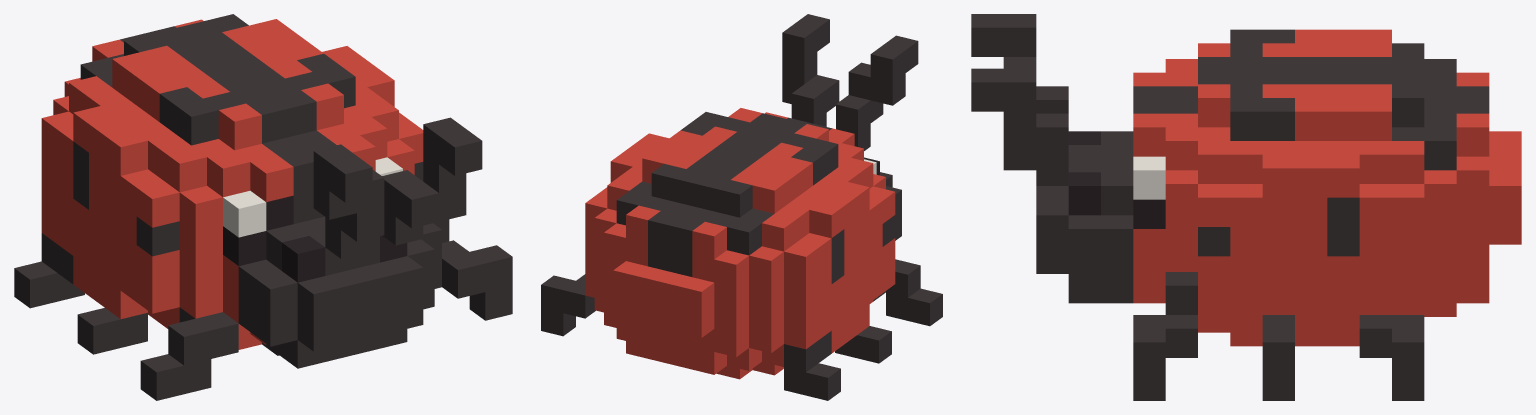
File: ladybug.glb
The picture shows the model from 3 angles, left to right: view 1: azimuth 30°, elevation 25°; view 2: azimuth 150°, elevation 25°; view 3: azimuth 270°, elevation 25°; orthographic projection. The views are drawn at different scales.
Visible parts, largest first — view 1: ladybug__wing_r, ladybug__head, ladybug__wing_l, ladybug__leg_r, ladybug__leg_l; view 2: ladybug__wing_r, ladybug__wing_l, ladybug__head, ladybug__leg_r, ladybug__leg_l; view 3: ladybug__wing_l, ladybug__head, ladybug__wing_r, ladybug__leg_l.
Part boxes in pixels (x1,y1,x2,y2): ladybug__wing_r: (41,27,320,349); ladybug__head: (238,117,482,368); ladybug__wing_l: (147,14,423,217); ladybug__leg_r: (14,233,238,400); ladybug__leg_l: (421,219,512,320); ladybug__wing_r: (657,118,895,379); ladybug__wing_l: (585,108,809,363); ladybug__head: (782,14,918,240); ladybug__leg_r: (784,259,942,400); ladybug__leg_l: (541,274,595,336); ladybug__wing_l: (1133,70,1521,346); ladybug__head: (971,14,1133,303); ladybug__wing_r: (1133,29,1521,158); ladybug__leg_l: (1133,272,1424,400).
Bounding box in the file's own units: 0.26 × 0.18 × 0.34.
1 material, 1 textured.
